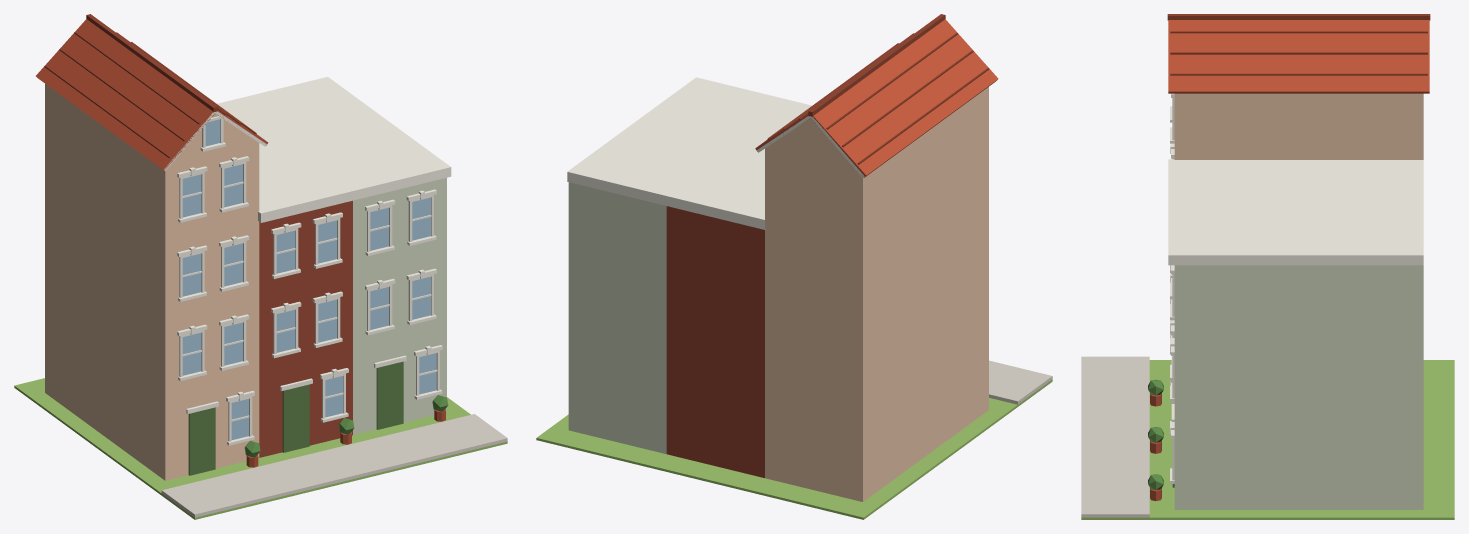
The model's file is Konut_sira_evler_3_Hafif.fbx.
The picture shows the model from 3 angles, left to right: view 1: azimuth 30°, elevation 25°; view 2: azimuth 150°, elevation 25°; view 3: azimuth 270°, elevation 25°; orthographic projection. The views are drawn at different scales.
Parts seen in each view (by area): view 1: Konut_sira_evler_3_Hafif; view 2: Konut_sira_evler_3_Hafif; view 3: Konut_sira_evler_3_Hafif.
Boxes of the visible parts, x1=… form: Konut_sira_evler_3_Hafif: x1=14, y1=14, x2=507, y2=519; Konut_sira_evler_3_Hafif: x1=536, y1=14, x2=1052, y2=519; Konut_sira_evler_3_Hafif: x1=1081, y1=14, x2=1454, y2=519.
Bounding box in the file's own units: 12 × 13.43 × 12.
